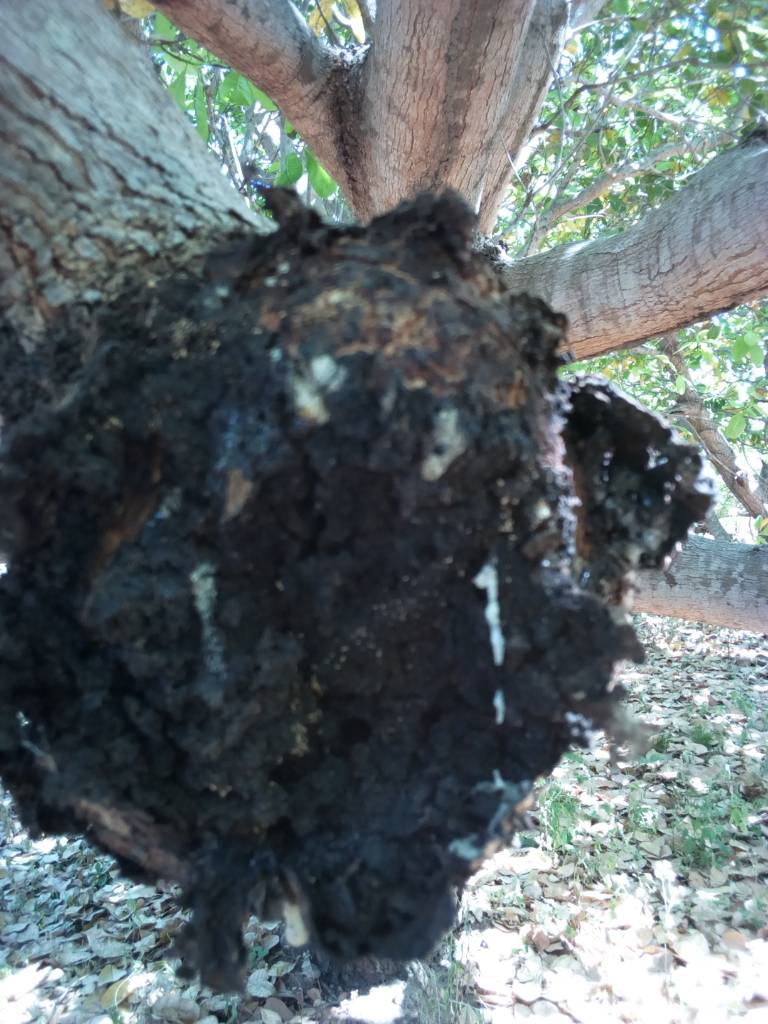Termites: (57, 255, 610, 922)
